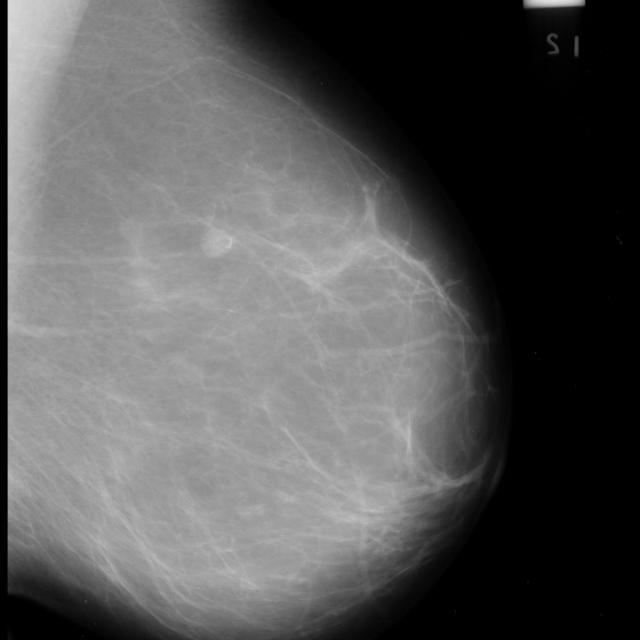tumour: (200, 229, 231, 257)
